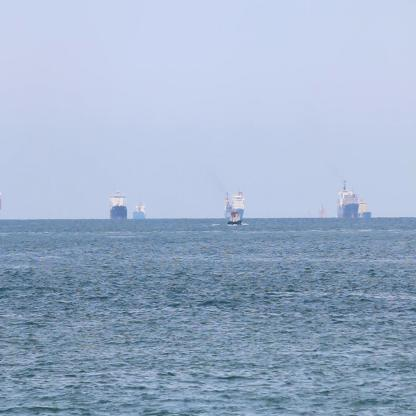Container Ship: (336, 178, 358, 221), (108, 184, 130, 224), (223, 187, 245, 223), (225, 201, 245, 229), (134, 200, 150, 224), (358, 196, 372, 221), (319, 202, 330, 221)
